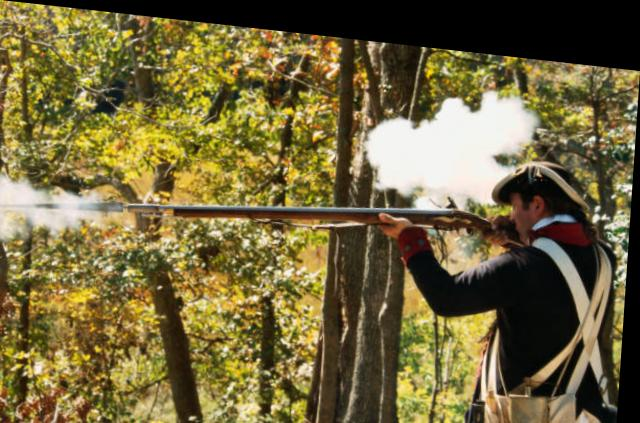other: (465, 149, 633, 422)
